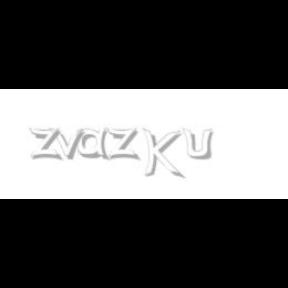K: (142, 128, 182, 180)
a: (76, 128, 114, 160)
u: (182, 128, 216, 160)
v: (49, 128, 89, 160)
z: (29, 128, 65, 160), (106, 128, 142, 160)
